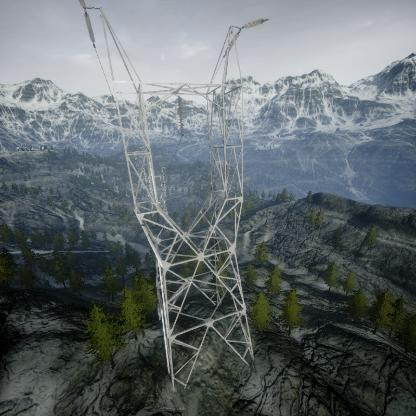tower: (72, 0, 270, 398)
